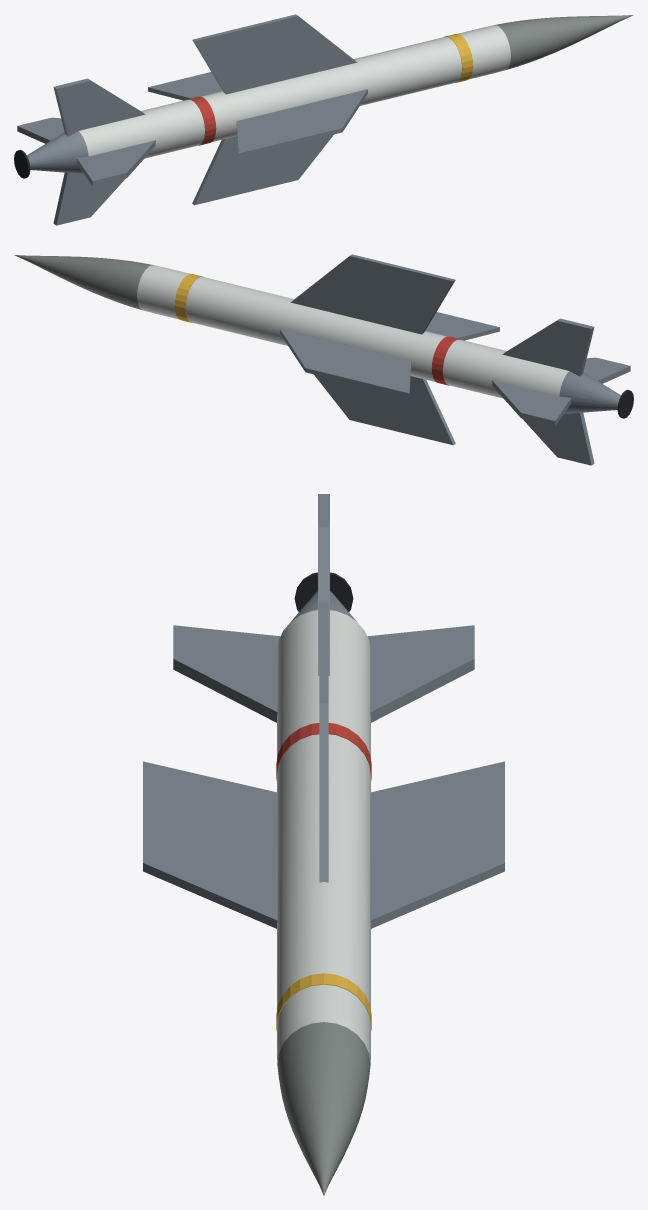
The model's file is pla_hhq16.glb.
The picture shows the model from 3 angles, top to bottom: view 1: azimuth 30°, elevation 25°; view 2: azimuth 150°, elevation 25°; view 3: azimuth 270°, elevation 25°; orthographic projection. The views are drawn at different scales.
Parts seen in each view (by area): view 1: titanium, missile_body, seeker, hazard_red, marking_yellow, rubber; view 2: titanium, missile_body, seeker, hazard_red, marking_yellow, rubber; view 3: titanium, missile_body, seeker, marking_yellow, rubber, hazard_red.
Boxes of the visible parts, bbox=[...] form: titanium: bbox=[17, 14, 367, 225]; missile_body: bbox=[79, 25, 510, 158]; seeker: bbox=[494, 15, 633, 69]; hazard_red: bbox=[187, 96, 216, 145]; marking_yellow: bbox=[444, 34, 473, 82]; rubber: bbox=[14, 149, 30, 178]; titanium: bbox=[280, 254, 630, 465]; missile_body: bbox=[137, 265, 568, 398]; seeker: bbox=[14, 255, 153, 309]; hazard_red: bbox=[431, 336, 460, 385]; marking_yellow: bbox=[174, 274, 203, 322]; rubber: bbox=[617, 389, 633, 418]; titanium: bbox=[143, 494, 504, 928]; missile_body: bbox=[277, 610, 370, 1062]; seeker: bbox=[277, 1022, 370, 1195]; marking_yellow: bbox=[276, 973, 371, 1031]; rubber: bbox=[294, 572, 353, 611]; hazard_red: bbox=[276, 723, 371, 780].
Size of the model in its own units: 10 by 2.56 by 2.56.
